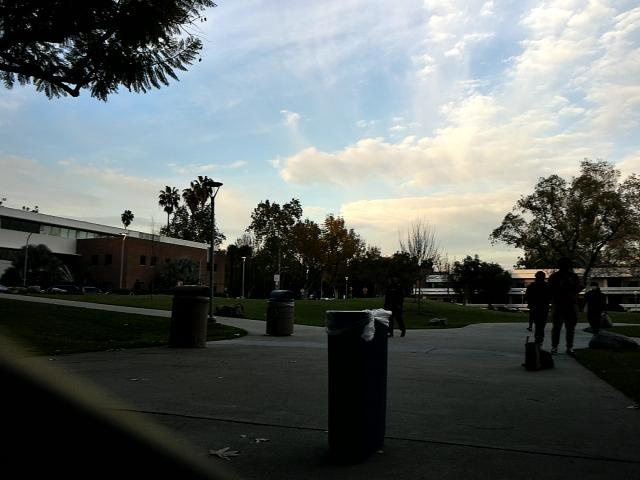trashcan_open: (318, 306, 398, 451)
